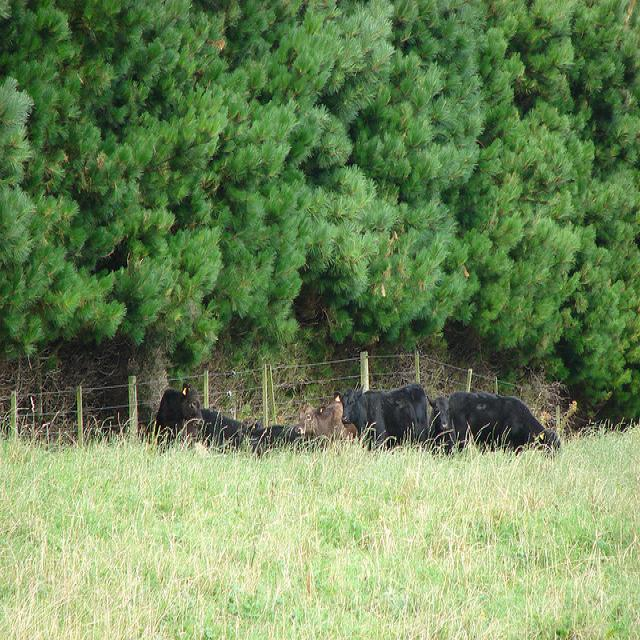cow: (426, 391, 559, 457), (151, 379, 240, 449), (333, 379, 428, 444), (292, 399, 359, 449), (232, 416, 307, 457)
